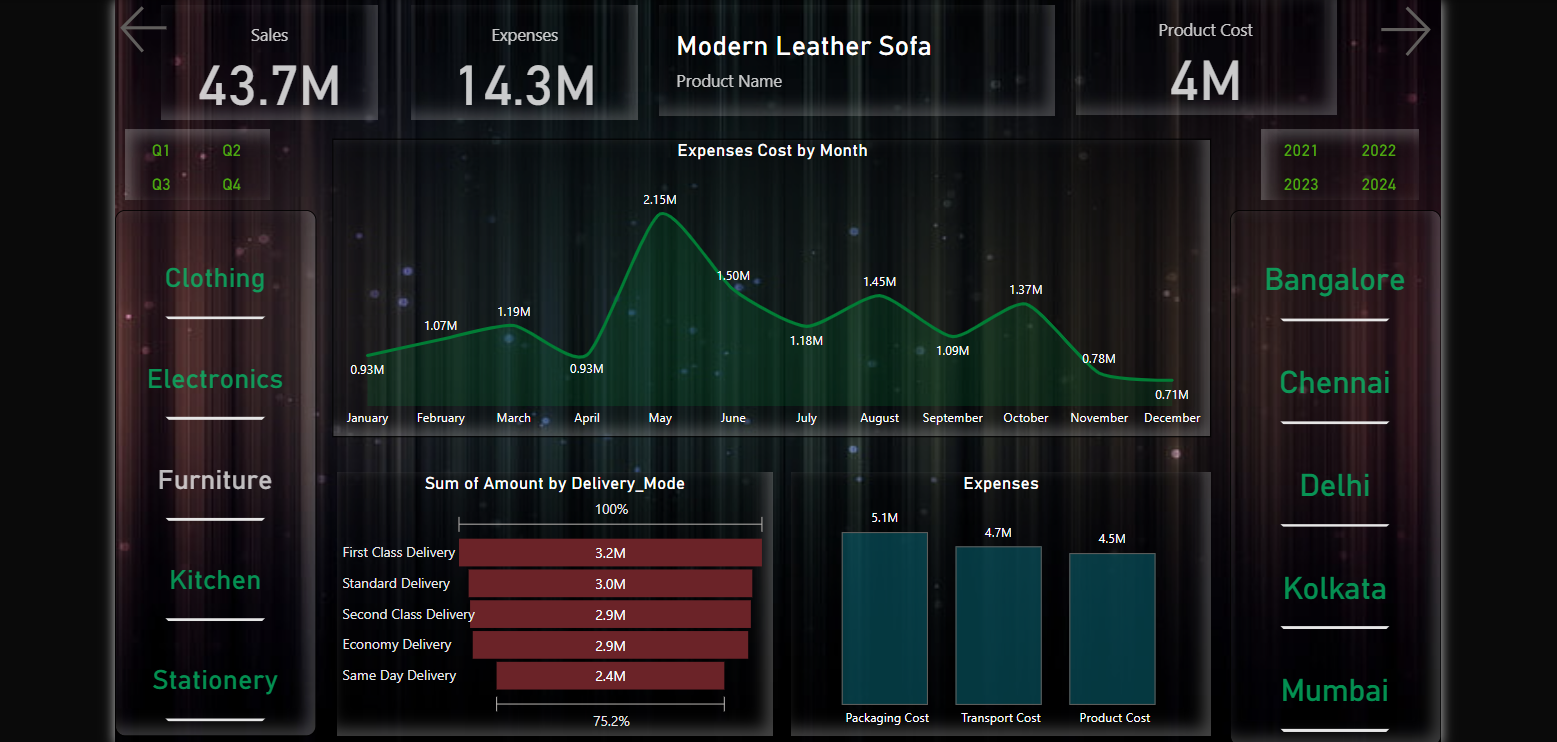

The dashboard page shown, as its layout file describes it:
{"tool":"powerbi","page":{"name":"Expenses","canvas":[1280,720],"ordinal":2},"visuals":[{"type":"columnChart","title":"Expenses ","fields":{"Category":["Expenses.Expense_Type"],"Y":["Customers.Total Expenses"]},"box":[652.7,456,405.4,254.6],"z":0},{"type":"cardVisual","fields":{"Data":["Customers.Total Expenses"]},"box":[285.9,4.8,219.6,111],"z":1000},{"type":"advancedSlicerVisual","fields":{"Values":["Region.City"]},"box":[1076.1,202.7,203.9,517.6],"z":2000},{"type":"cardVisual","fields":{"Data":["Sum(Sales.Total_Sales)"]},"box":[44.6,4.8,209.9,111],"z":3000},{"type":"actionButton","box":[0,0,56.7,56.7],"z":4000},{"type":"actionButton","box":[1214.9,0,65.1,60.3],"z":5000},{"type":"advancedSlicerVisual","fields":{"Values":["Products.Category"]},"box":[0,202.7,194.2,507.9],"z":6000},{"type":"funnel","fields":{"Category":["Sales.Delivery_Mode"],"Y":["Sum(Expenses.Amount)"]},"box":[214.7,456,419.8,254.6],"z":7000},{"type":"lineChart","fields":{"Category":["Sales.Order Date.Variation.Date Hierarchy.Month"],"Y":["Sum(Expenses.Amount)"]},"box":[209.9,133.9,848.1,288.3],"z":8000},{"type":"advancedSlicerVisual","fields":{"Values":["Sales.Year"]},"box":[1106.3,124.3,152,68.8],"z":9000},{"type":"advancedSlicerVisual","fields":{"Values":["Sales.Quarter"]},"box":[9.7,124.3,139.9,68.8],"z":10000},{"type":"cardVisual","title":"Product Cost","fields":{"Data":["Customers.Product With Highest Cost"]},"box":[524.8,4.8,382.4,107.4],"z":11000},{"type":"cardVisual","fields":{"Data":["Customers.Total Cost of Highest Expense Product (with filter check)"]},"box":[927.8,0,250.9,111],"z":12000}]}

Visuals, with their boxes on the page's 1280x720 design canvas (x1, y1, x2, y2). These are canvas units, not pixel positions in the 1557x742 screenshot, which may show the page scaled, cropped or inside an application window:
"Expenses " columnChart: detection(653, 456, 1058, 711)
cardVisual - Customers.Total Expenses: detection(286, 5, 506, 116)
advancedSlicerVisual - Region.City: detection(1076, 203, 1280, 720)
cardVisual - Sum(Sales.Total_Sales): detection(45, 5, 254, 116)
actionButton: detection(0, 0, 57, 57)
actionButton: detection(1215, 0, 1280, 60)
advancedSlicerVisual - Products.Category: detection(0, 203, 194, 711)
funnel - Sales.Delivery_Mode x Sum(Expenses.Amount): detection(215, 456, 634, 711)
lineChart - Sales.Order Date.Variation.Date Hierarchy.Month x Sum(Expenses.Amount): detection(210, 134, 1058, 422)
advancedSlicerVisual - Sales.Year: detection(1106, 124, 1258, 193)
advancedSlicerVisual - Sales.Quarter: detection(10, 124, 150, 193)
"Product Cost" cardVisual: detection(525, 5, 907, 112)
cardVisual - Customers.Total Cost of Highest Expense Product (with filter check): detection(928, 0, 1179, 111)
